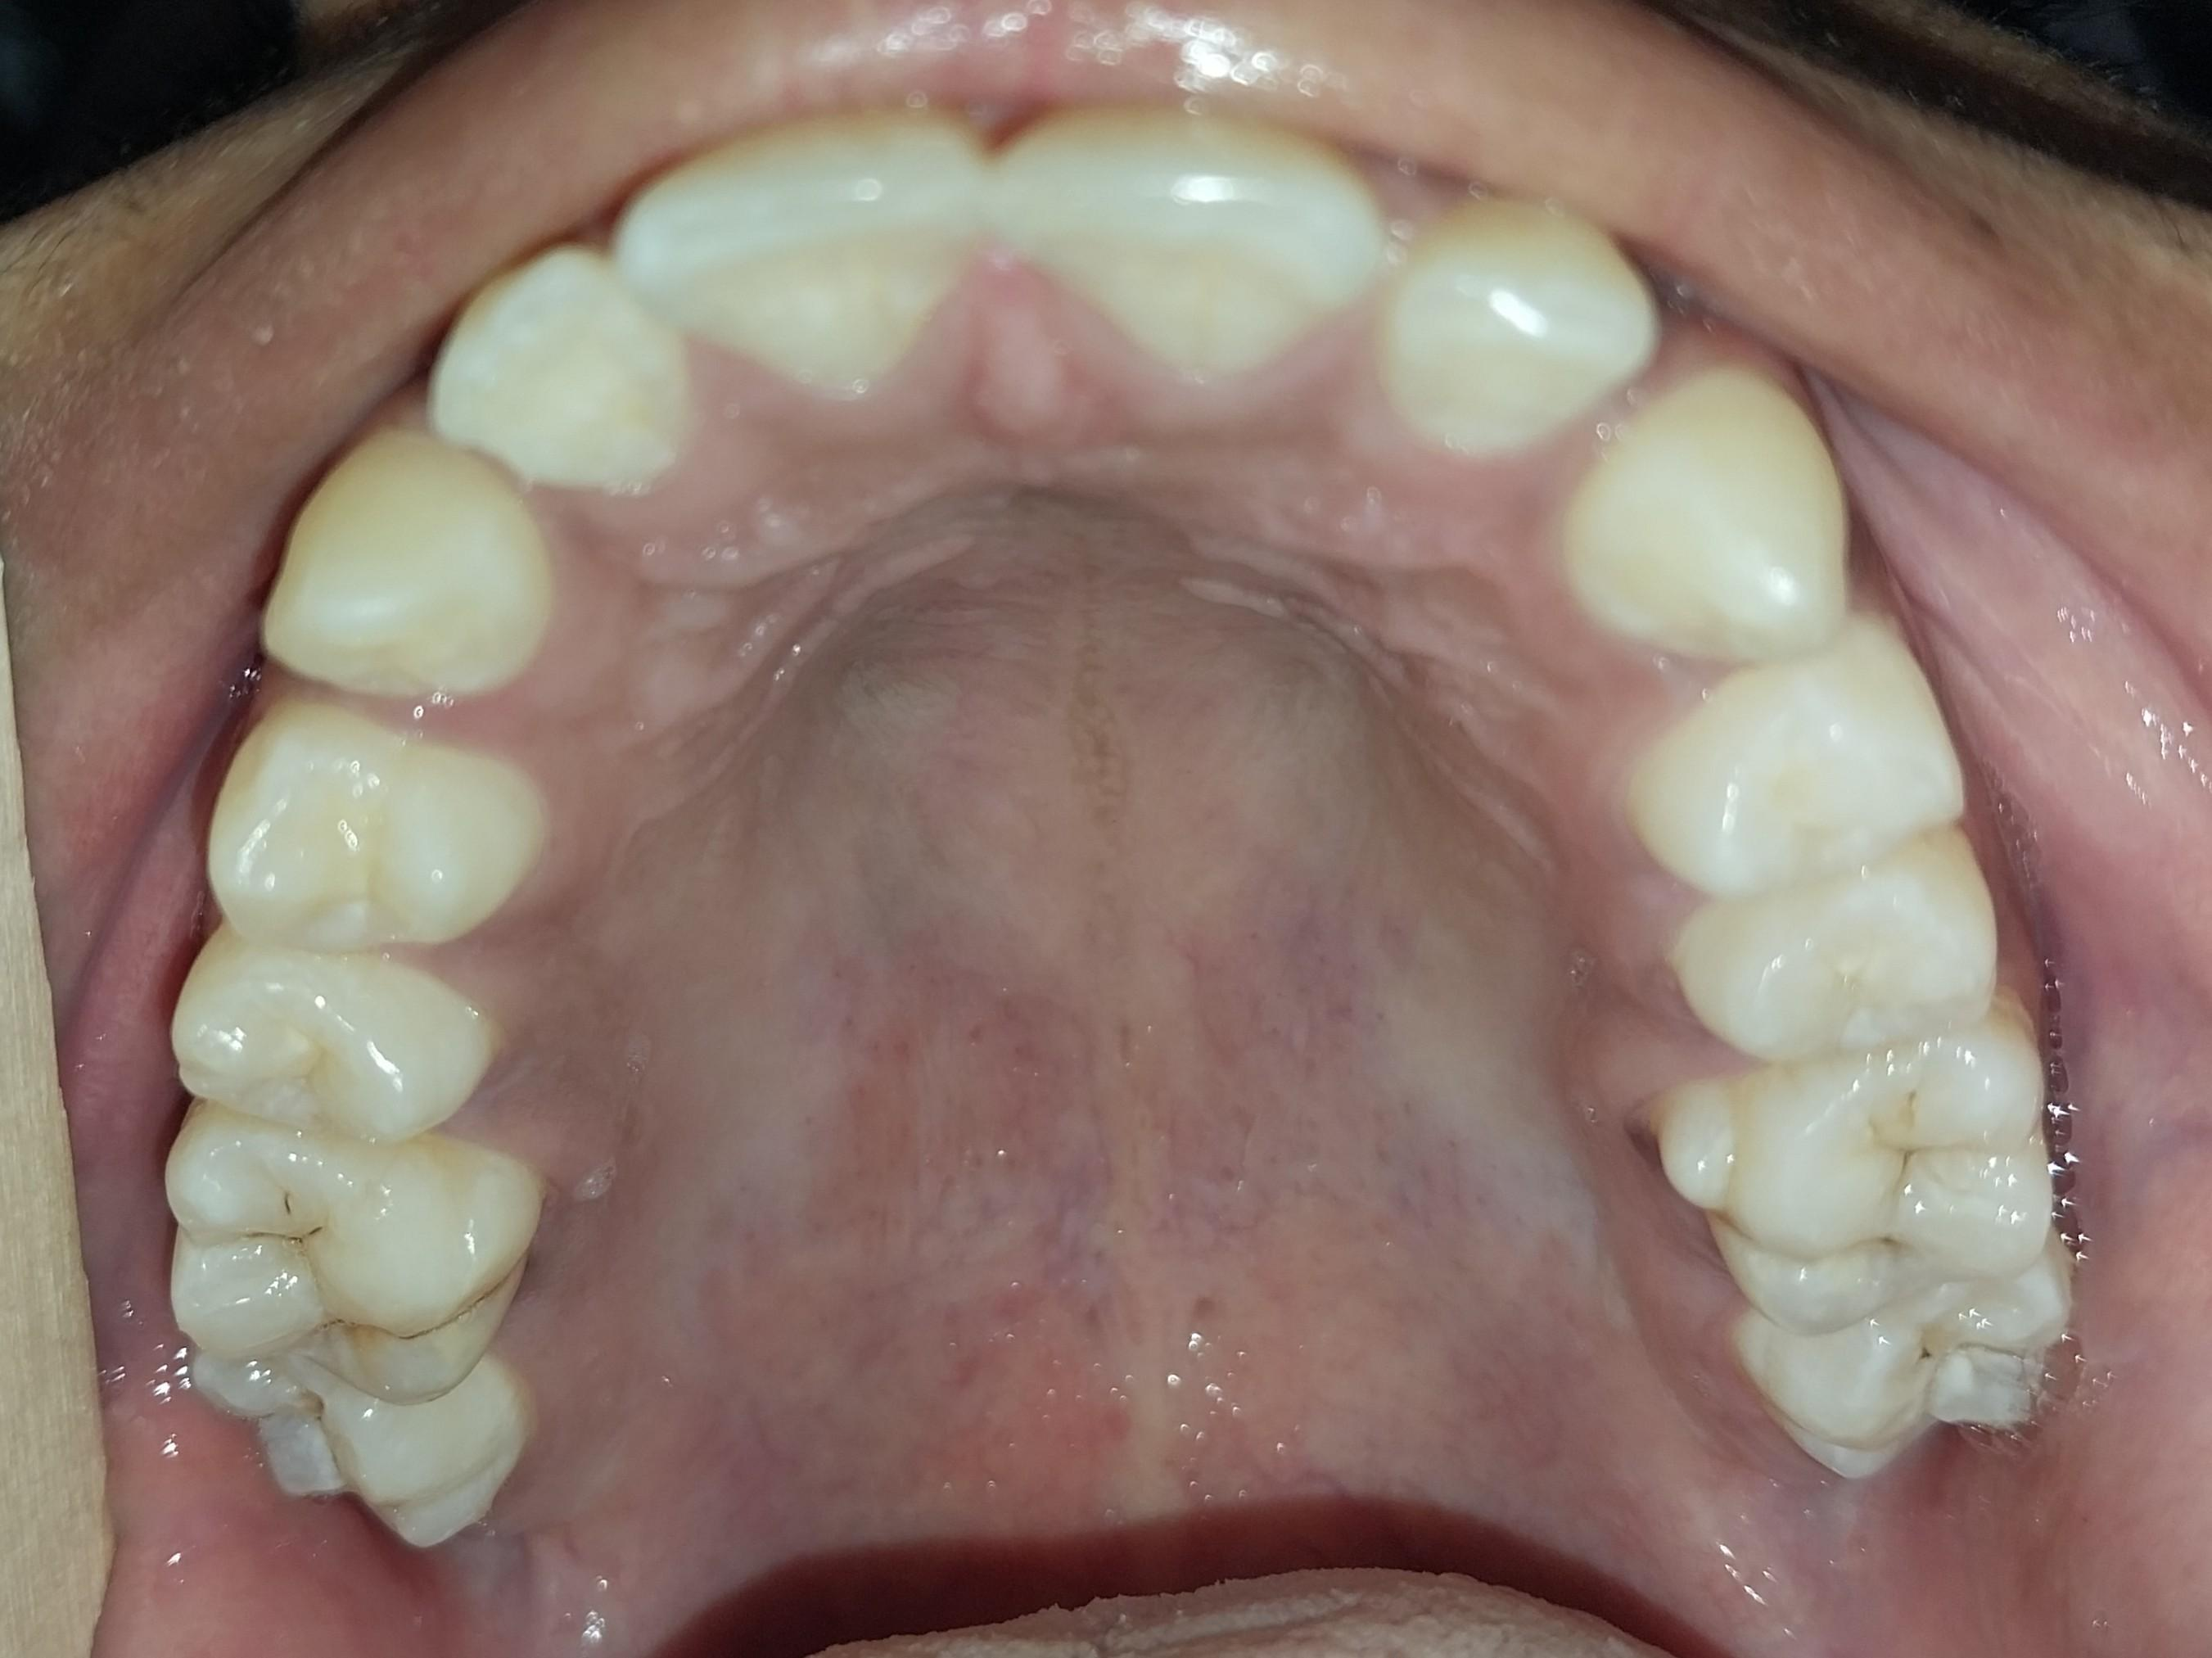D: (1671, 1025, 2050, 1333), (169, 1103, 536, 1401), (1735, 1249, 2066, 1479), (189, 1347, 526, 1547)
